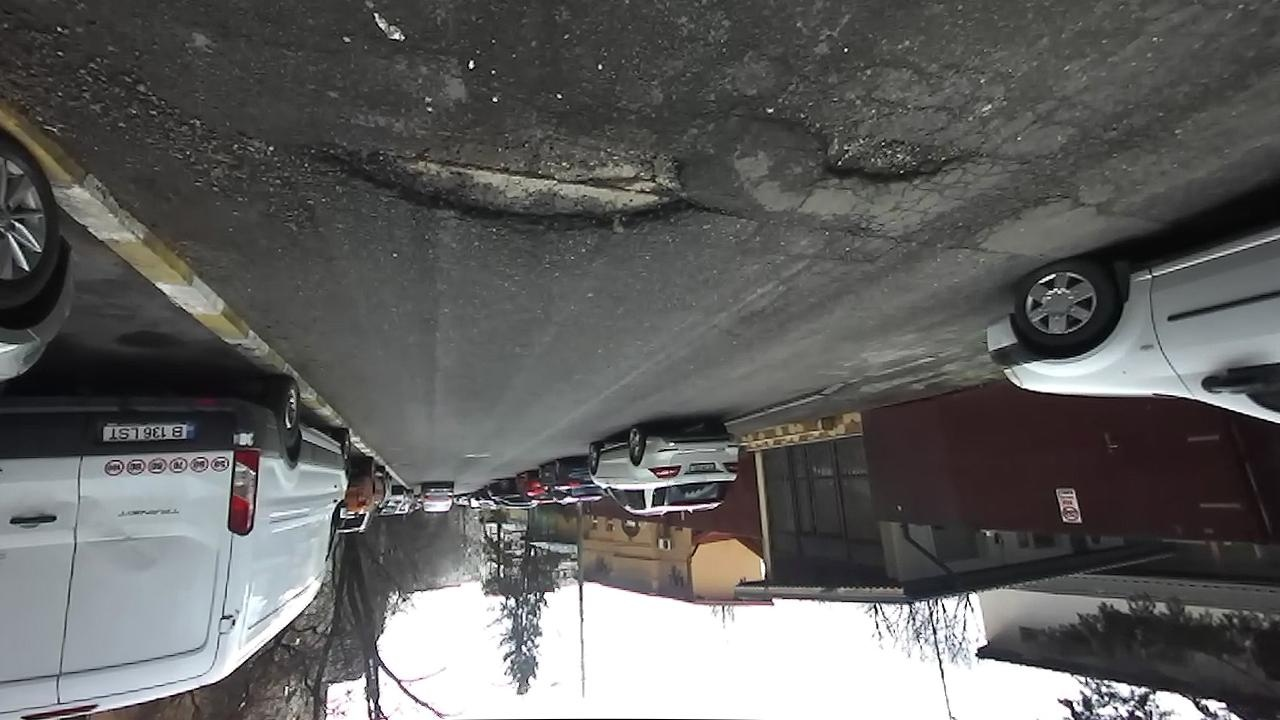pothole: (274, 112, 719, 241), (789, 107, 985, 193)
